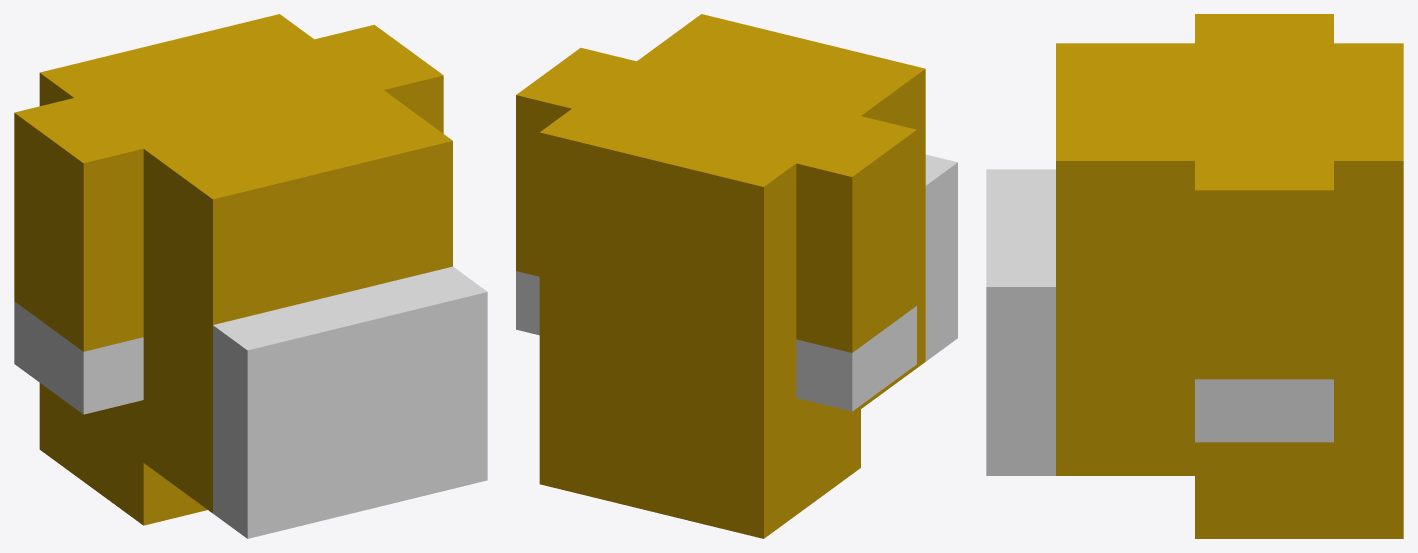
File: dog_head.fbx
The picture shows the model from 3 angles, left to right: view 1: azimuth 30°, elevation 25°; view 2: azimuth 150°, elevation 25°; view 3: azimuth 270°, elevation 25°; orthographic projection. The views are drawn at different scales.
Parts seen in each view (by area): view 1: dog_head; view 2: dog_head; view 3: dog_head.
Boxes of the visible parts, x1,y1,x2,y2 form: dog_head: [14, 14, 487, 538]; dog_head: [516, 14, 957, 538]; dog_head: [986, 14, 1403, 538].
Bounding box in the file's own units: 0.6 × 0.6 × 0.6.
